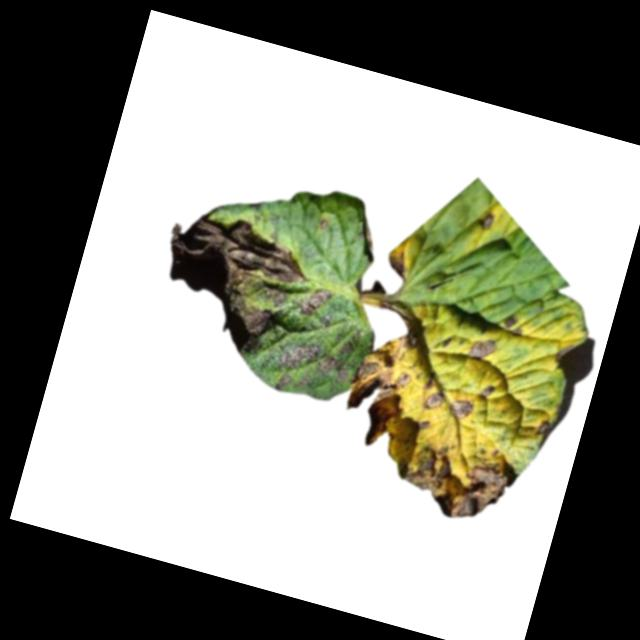Early_blight: (145, 202, 316, 364), (387, 430, 522, 531), (336, 336, 416, 453), (268, 323, 359, 407), (369, 292, 437, 354), (290, 280, 336, 324), (466, 332, 501, 365), (449, 393, 477, 422), (534, 415, 559, 441), (423, 382, 445, 410), (474, 210, 497, 233), (477, 379, 497, 401)
